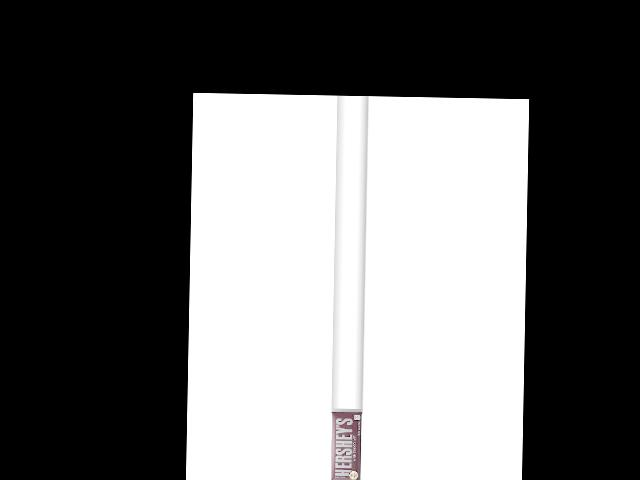chocolate: (331, 408, 366, 480)
